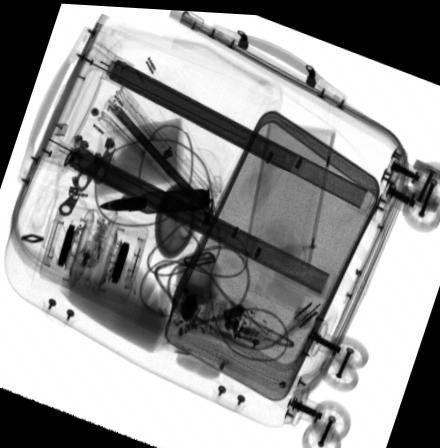Bullet: (98, 185, 209, 213)
